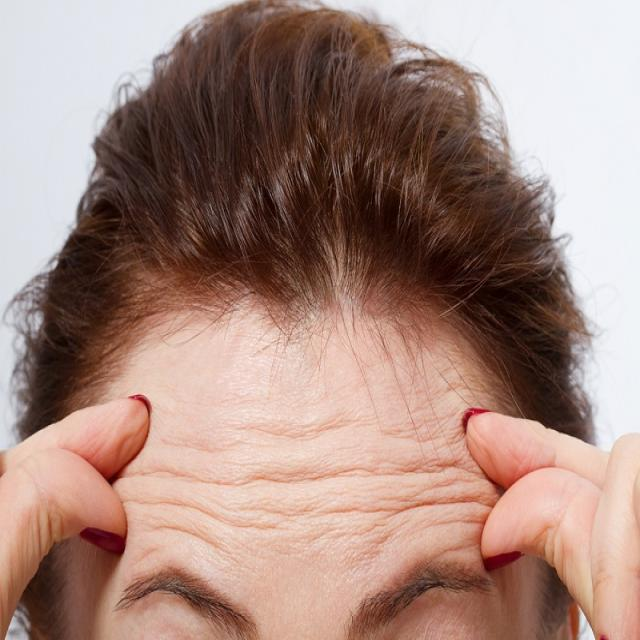Wrinkles: (122, 478, 497, 530), (126, 459, 492, 486), (154, 525, 240, 564), (237, 416, 374, 440), (433, 514, 489, 559), (163, 440, 261, 453)
